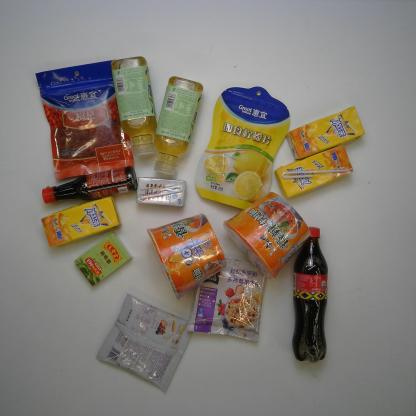Candy: (73, 231, 133, 287)
Dried Fruit: (34, 58, 136, 181), (193, 85, 291, 212)
Drink: (290, 226, 330, 364), (153, 75, 204, 177), (110, 55, 159, 158), (285, 105, 366, 161), (273, 144, 355, 199), (40, 195, 121, 248)
Instant Drink: (95, 292, 194, 393), (186, 257, 267, 342)
Instant Noodles: (222, 191, 311, 281), (145, 212, 229, 301)
Milk: (135, 176, 187, 207)
Seasoner: (41, 165, 139, 205)
